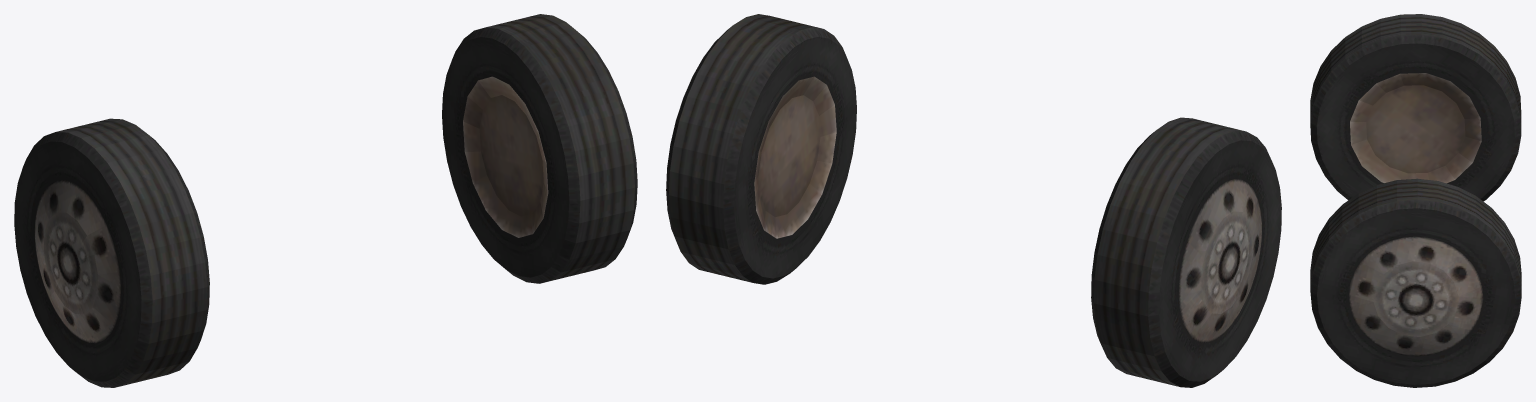
File: FrontWheels.obj
3 views of the same model, side by side, from view 1: azimuth 30°, elevation 25°; view 2: azimuth 150°, elevation 25°; view 3: azimuth 270°, elevation 25° (orthographic). The views are drawn at different scales.
Visible parts, largest first — view 1: DrawCall_0818, DrawCall_0816; view 2: DrawCall_0818, DrawCall_0816; view 3: DrawCall_0816, DrawCall_0818.
Boxes of the visible parts, <box> form: DrawCall_0818: <box>14,118,209,387</box>; DrawCall_0816: <box>442,14,637,283</box>; DrawCall_0818: <box>1091,117,1281,387</box>; DrawCall_0816: <box>666,14,856,284</box>; DrawCall_0816: <box>1310,178,1521,387</box>; DrawCall_0818: <box>1310,14,1521,201</box>.
Size of the model in its own units: 2.64 by 1.16 by 1.18.
Materials: 1 (1 with a texture image).
